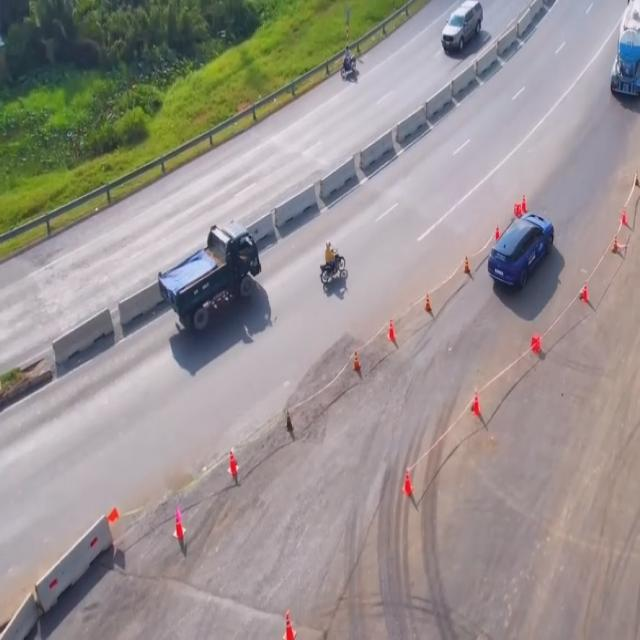car: (490, 212, 555, 293), (439, 0, 480, 55)
motorbike: (320, 241, 346, 288), (340, 45, 359, 80)
truck: (158, 224, 260, 332), (612, 0, 640, 102)
